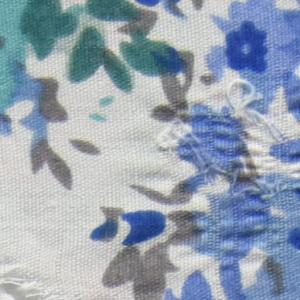Damage: (149, 39, 300, 300), (1, 241, 68, 300)
